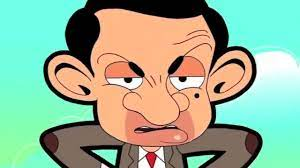mrbean: (26, 5, 266, 166)
